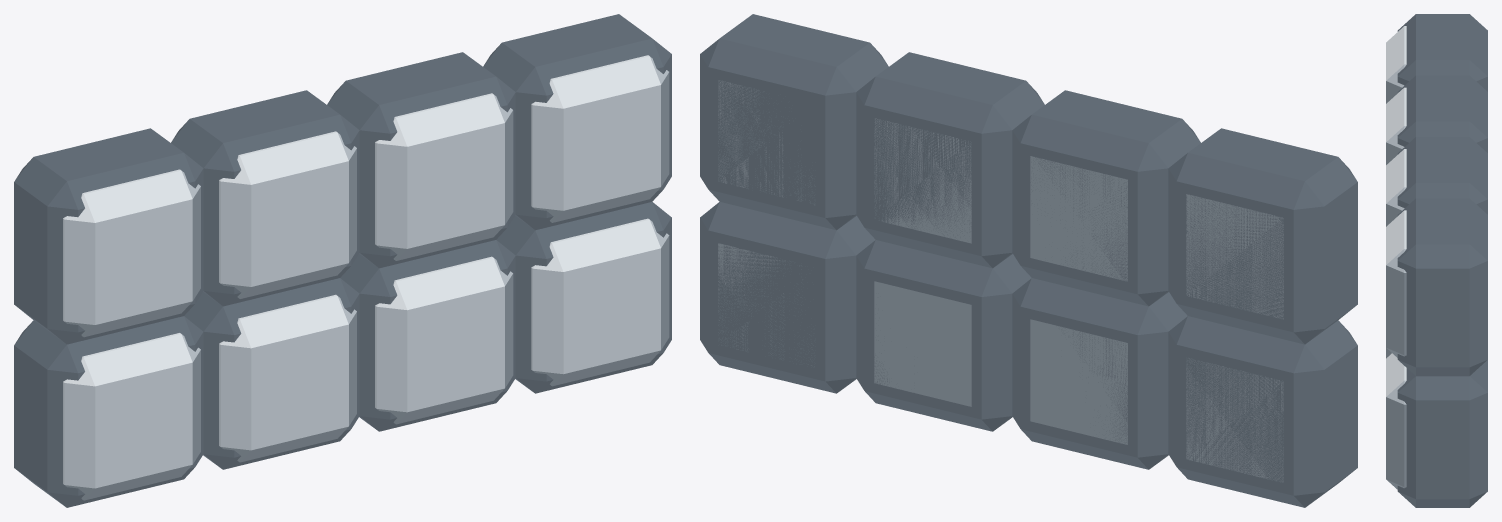
Rendered from Terrain_Block4x2.gltf.
3 views of the same model, side by side, from view 1: azimuth 30°, elevation 25°; view 2: azimuth 150°, elevation 25°; view 3: azimuth 270°, elevation 25° (orthographic). The views are drawn at different scales.
Parts seen in each view (by area): view 1: Terrain_Block4x2_baked; view 2: Terrain_Block4x2_baked; view 3: Terrain_Block4x2_baked.
Boxes of the visible parts, <box> form: Terrain_Block4x2_baked: <box>14,14,671,507</box>; Terrain_Block4x2_baked: <box>700,14,1357,507</box>; Terrain_Block4x2_baked: <box>1386,14,1487,507</box>.
Size of the model in its own units: 4 by 2 by 0.7.
